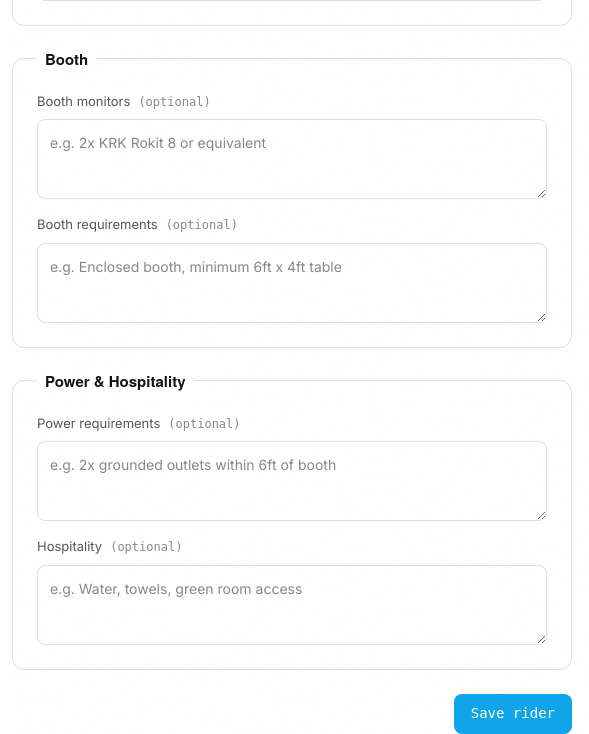
Test: RiderForm › shows error on failure
(page scrolled)
Click the button "Save rider".
click(513, 714)  # box [454, 694, 572, 733]
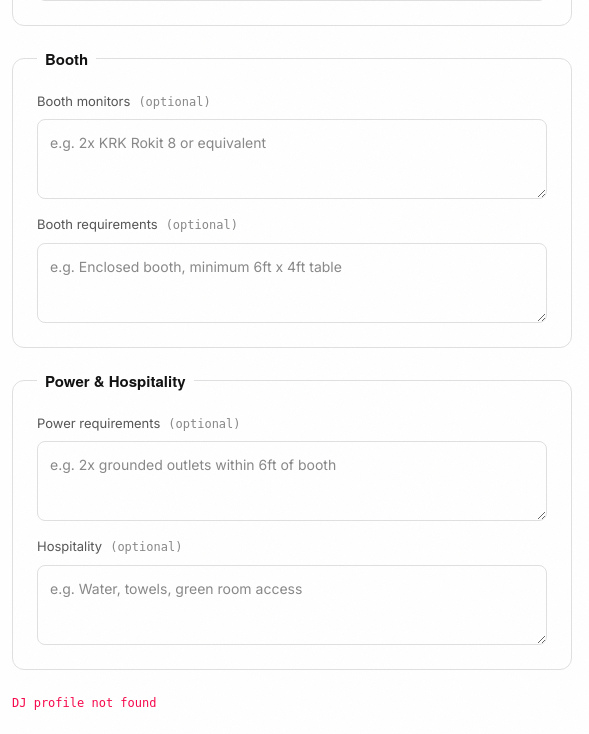
Result: the text "DJ profile not found" is shown at [12, 696, 156, 710]
